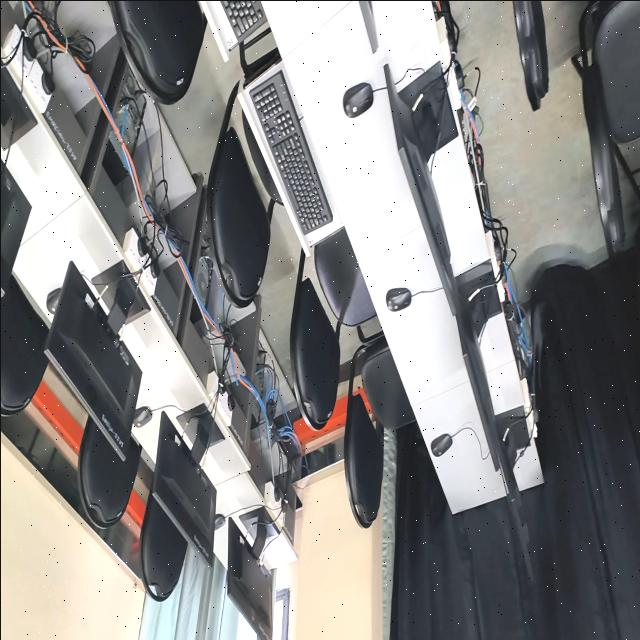Chair: (571, 0, 640, 255), (289, 227, 375, 428), (206, 83, 281, 307), (343, 327, 414, 527), (106, 0, 206, 104), (77, 415, 140, 528), (0, 276, 47, 415), (138, 491, 187, 600), (511, 0, 548, 110)
Keyboard: (242, 55, 339, 245), (219, 0, 266, 41)
Monitor: (383, 64, 534, 583), (44, 262, 141, 460), (143, 412, 215, 563), (226, 519, 273, 640), (0, 159, 30, 295), (358, 0, 377, 52)
Mouse: (342, 81, 372, 117), (385, 287, 411, 310), (429, 433, 451, 457), (133, 406, 151, 427), (45, 288, 60, 313), (214, 514, 224, 530)
